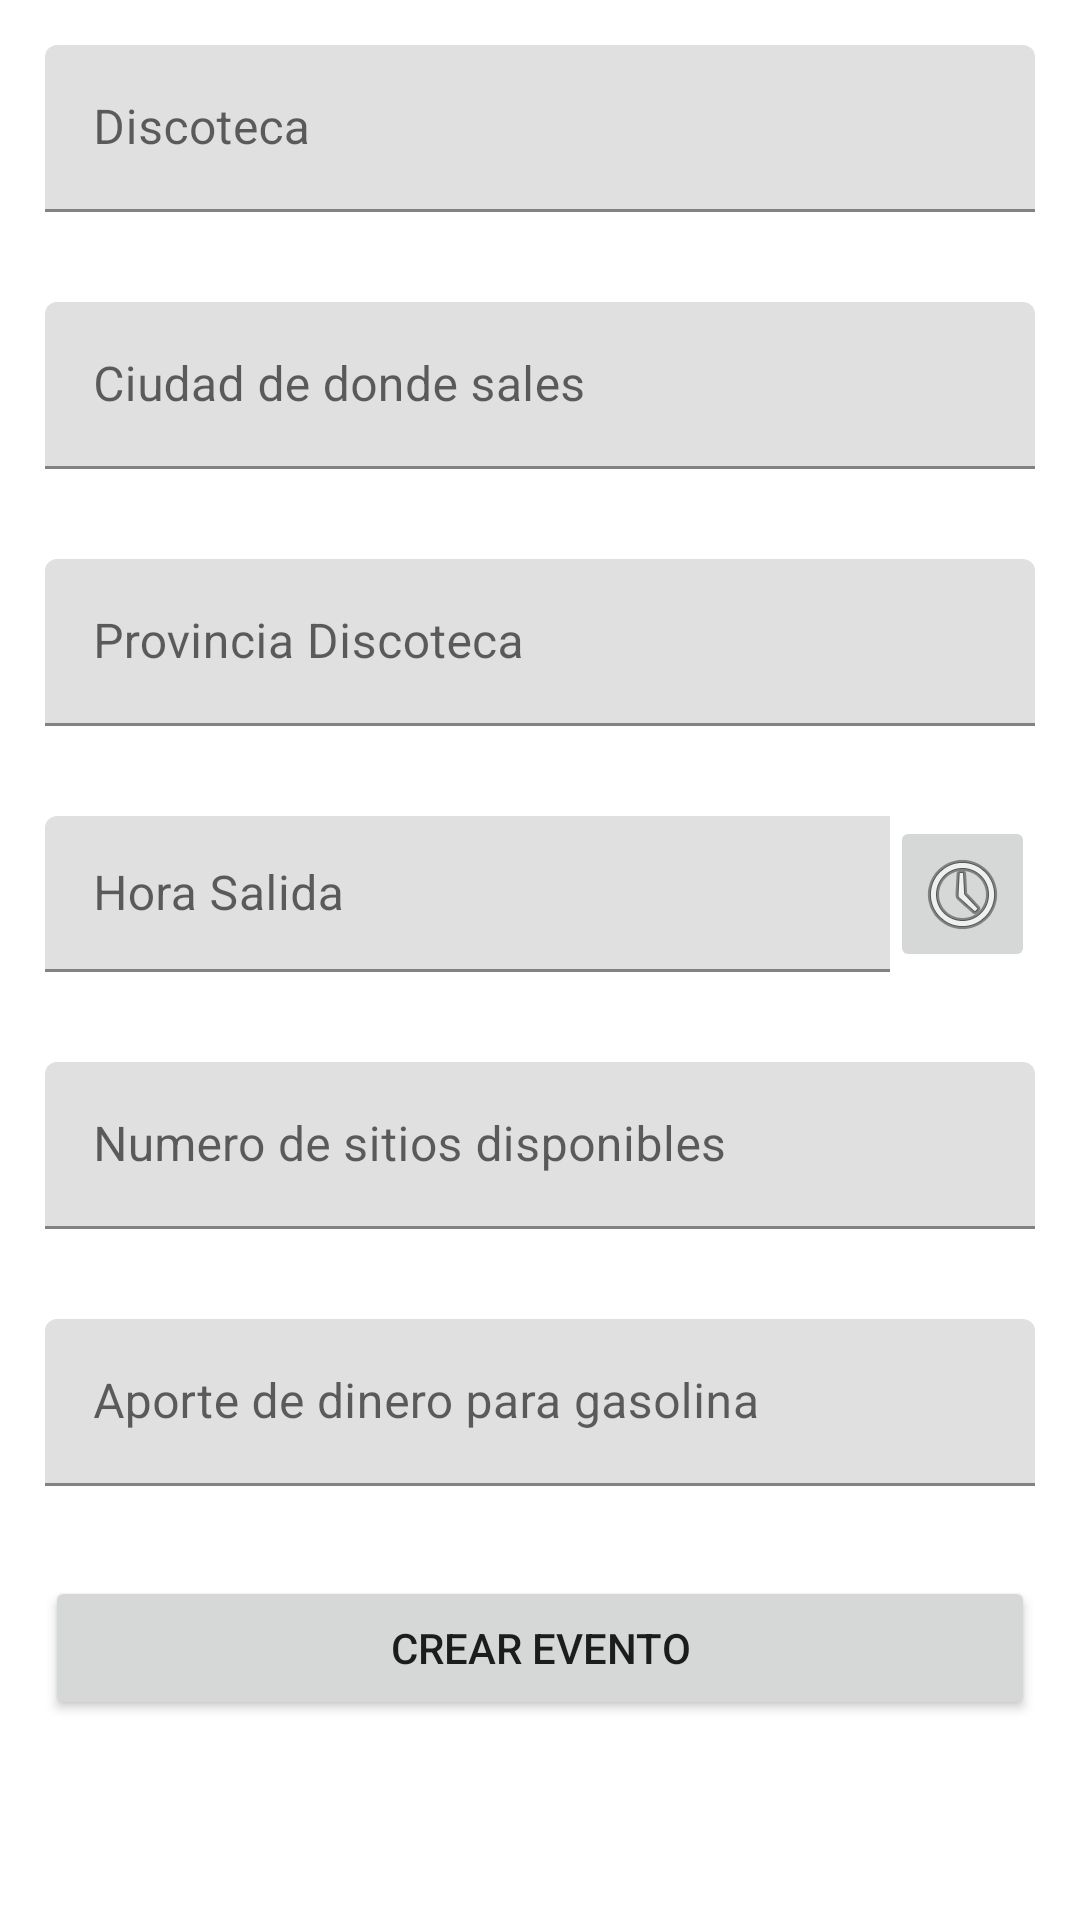

Locate icon controls on the screen. Image size 1080 × 1920, boxes as (x1, y1, x2, y2).
recent history: (902, 834, 1023, 954)
